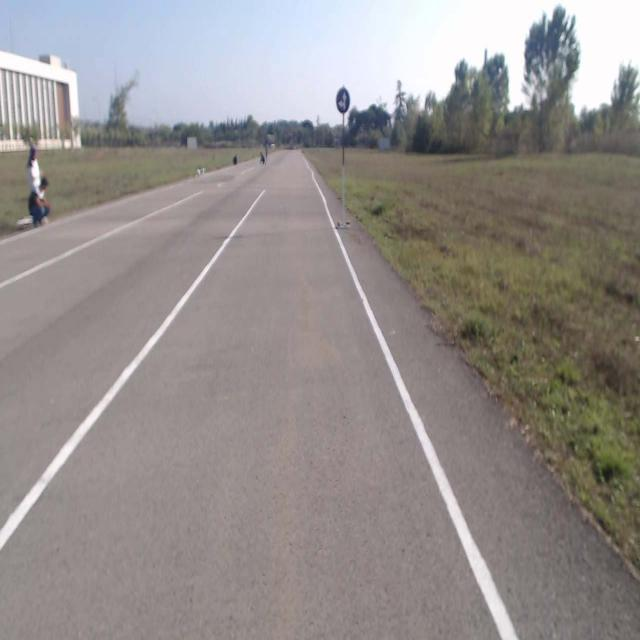ilerisol: (336, 86, 350, 116)
